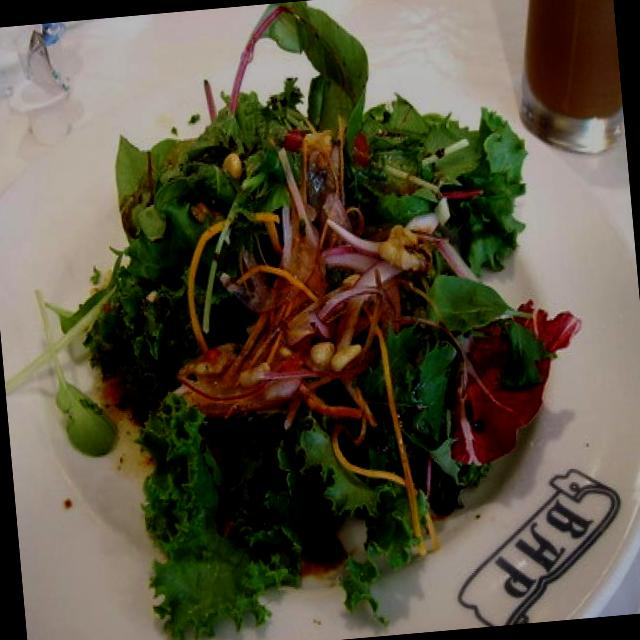Green Salad: (83, 58, 576, 576)
